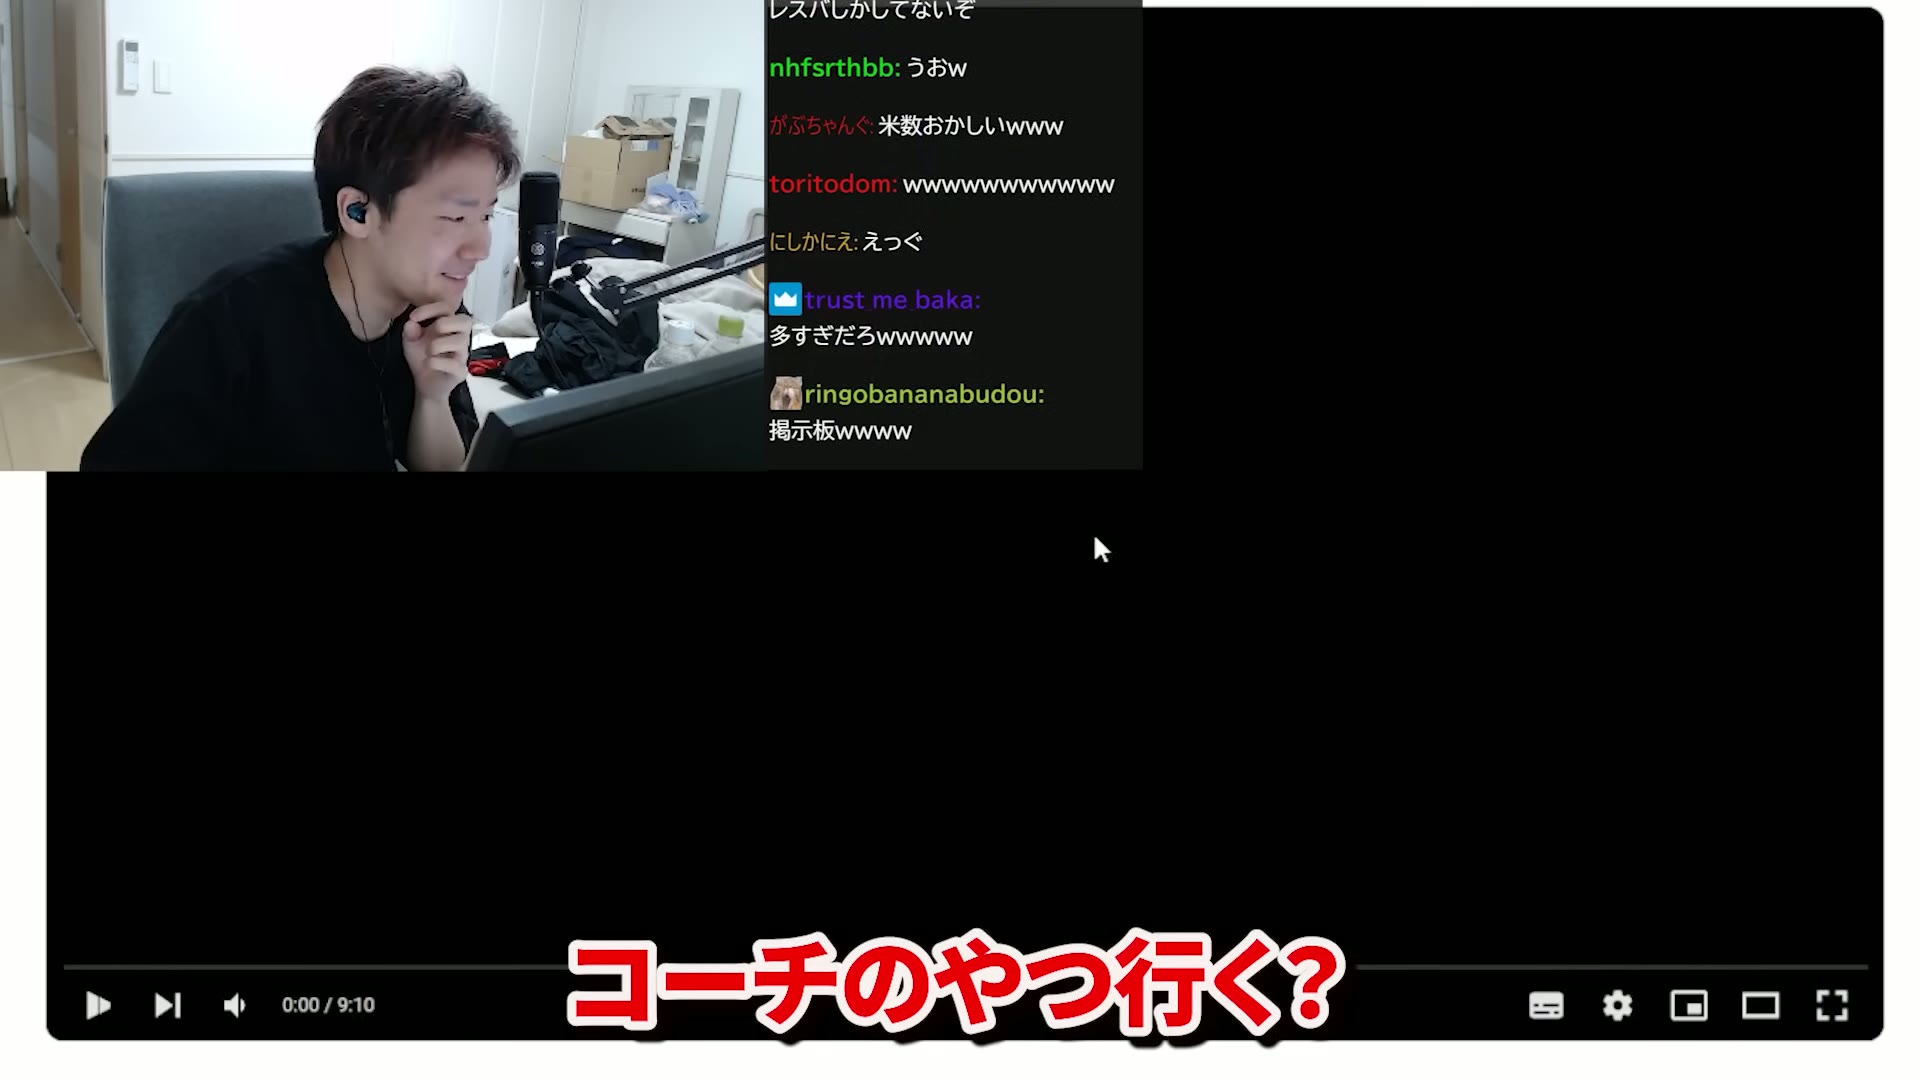stream_tag: (1, 1, 766, 467)
